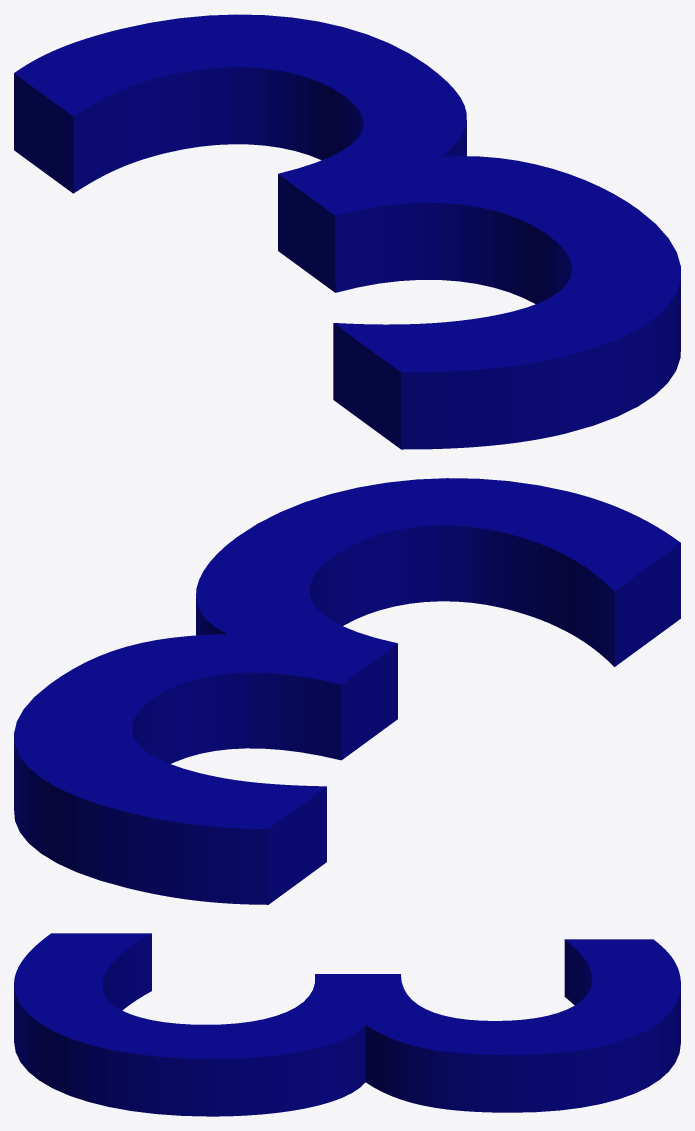
Rendered from three.dae.
3 views of the same model, one above another, from view 1: azimuth 30°, elevation 25°; view 2: azimuth 150°, elevation 25°; view 3: azimuth 270°, elevation 25° (orthographic). The views are drawn at different scales.
Visible parts, largest first — view 1: Text_002; view 2: Text_002; view 3: Text_002.
Boxes of the visible parts, x1,y1,x2,y2 form: Text_002: (14,14,680,449); Text_002: (14,478,680,904); Text_002: (14,933,680,1116).
Bounding box in the file's own units: 0.468 × 1.05 × 0.1.
